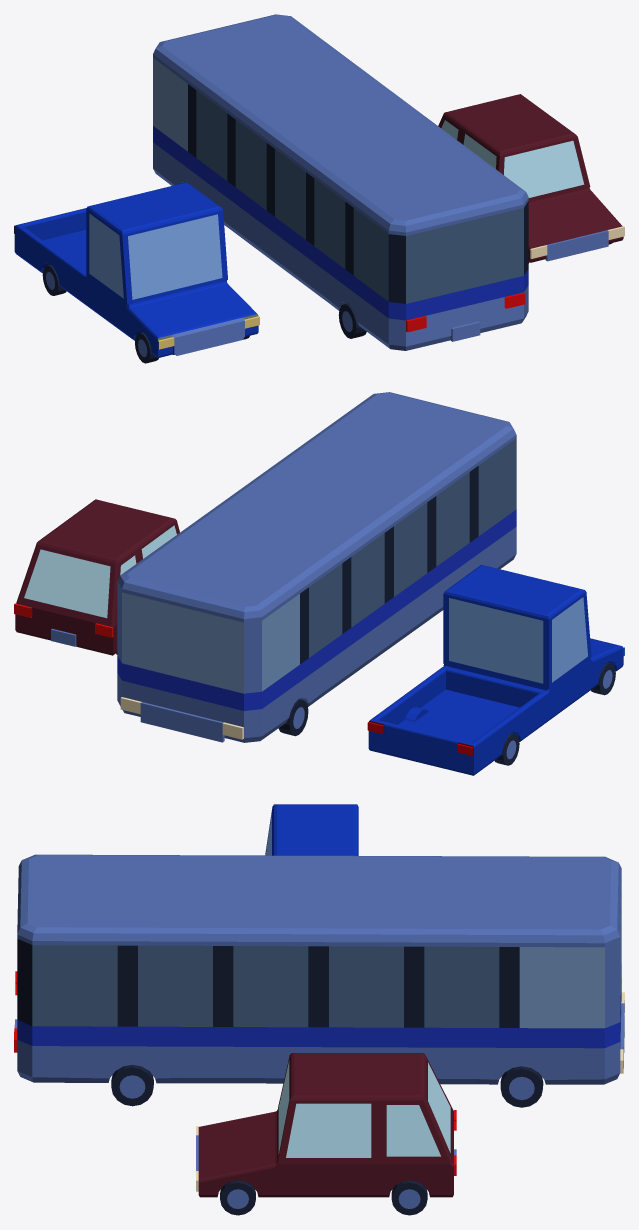
File: Vehicles_v2.fbx
The picture shows the model from 3 angles, top to bottom: view 1: azimuth 30°, elevation 25°; view 2: azimuth 150°, elevation 25°; view 3: azimuth 270°, elevation 25°; orthographic projection. The views are drawn at different scales.
Visible parts, largest first — view 1: Bus, Car2, Car1; view 2: Bus, Car2, Car1; view 3: Bus, Car1, Car2.
Part boxes in pixels (x1,y1,x2,y2): Bus: [153, 14, 528, 350]; Car2: [14, 182, 259, 363]; Car1: [438, 94, 624, 263]; Bus: [117, 392, 516, 742]; Car2: [367, 564, 624, 775]; Car1: [14, 499, 179, 655]; Bus: [14, 854, 624, 1107]; Car1: [196, 1053, 456, 1215]; Car2: [265, 804, 358, 855].
Bounding box in the file's own units: 10.5 × 3.35 × 9.89.
